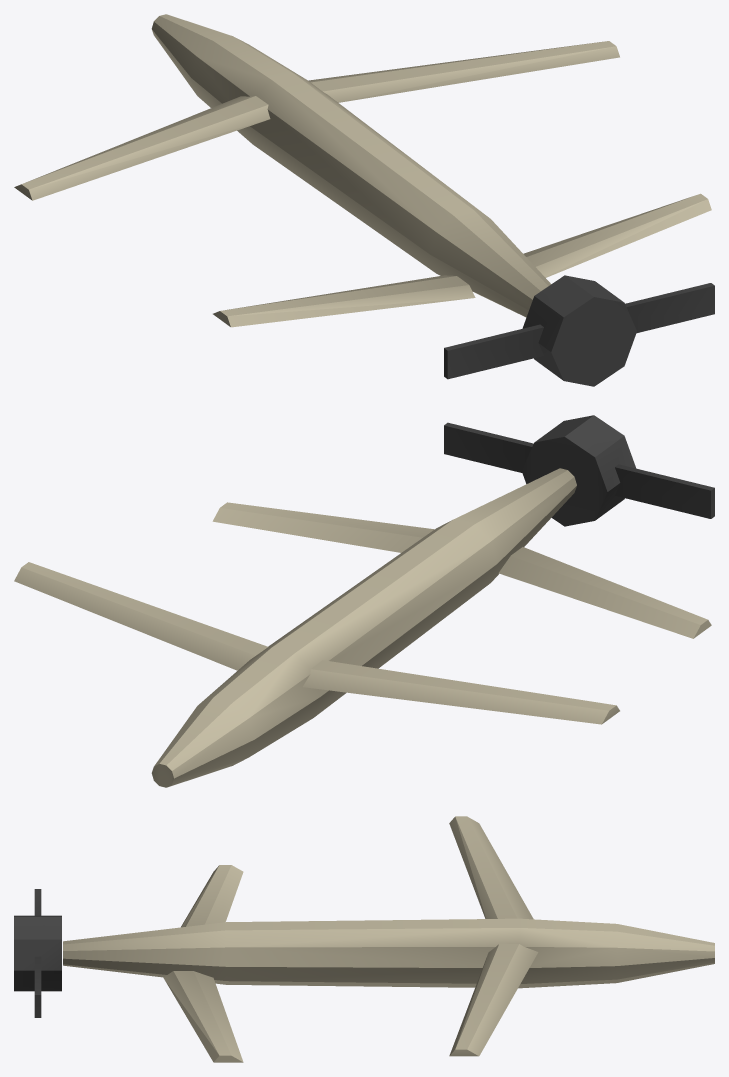
File: usa_lm_alt700.glb
3 renders of one model, top to bottom at view 1: azimuth 30°, elevation 25°; view 2: azimuth 150°, elevation 25°; view 3: azimuth 270°, elevation 25°, orthographic. The views are drawn at different scales.
Parts seen in each view (by area): view 1: body; view 2: body; view 3: body.
Part boxes in pixels (x1,y1,x2,y2): body: [14, 14, 714, 386]; body: [14, 415, 714, 787]; body: [14, 816, 714, 1062].
Bounding box in the file's own units: 1.72 × 0.252 × 2.19.
